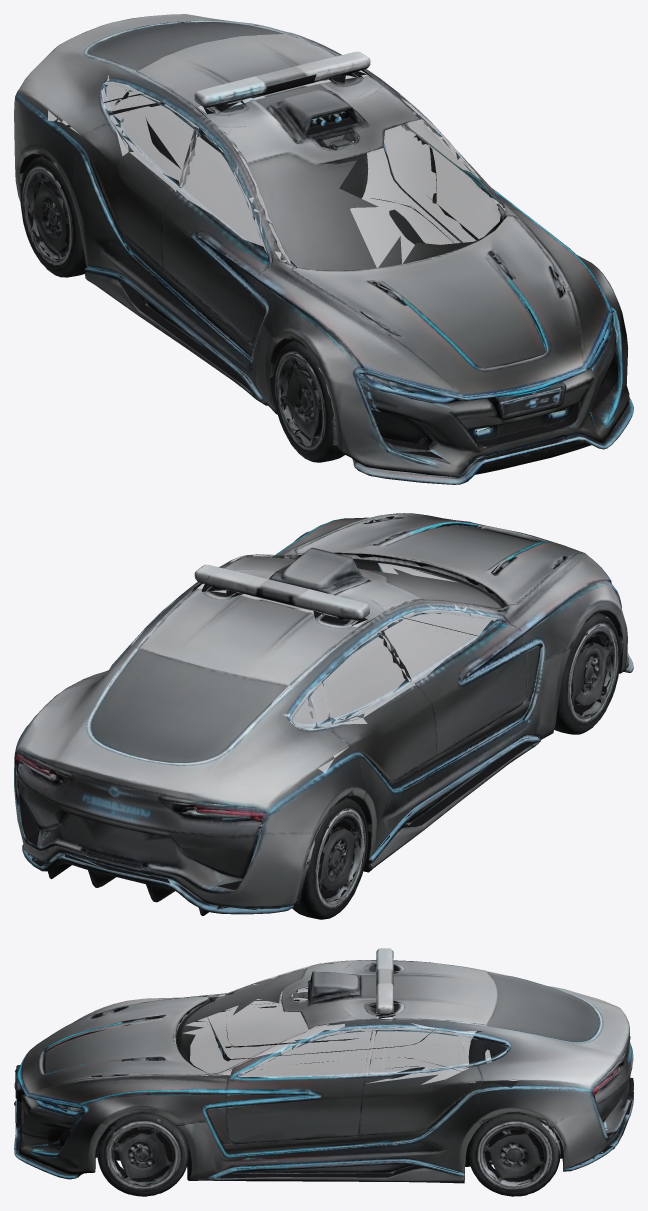
Rendered from luxury.glb.
3 renders of one model, top to bottom at view 1: azimuth 30°, elevation 25°; view 2: azimuth 150°, elevation 25°; view 3: azimuth 270°, elevation 25°, orthographic. The views are drawn at different scales.
Parts seen in each view (by area): view 1: body, glass, door_r, wheel_fr, wheel_rr, door_r_glass, door_l_glass, door_l, wheel_rl; view 2: body, door_r, glass, wheel_rr, wheel_fr, door_r_glass; view 3: body, door_l, glass, wheel_rl, wheel_fl, door_l_glass, wheel_rr, door_r.
Boxes of the visible parts, <box> form: body: <box>14,14,633,484</box>; glass: <box>48,65,505,267</box>; door_r: <box>153,136,313,368</box>; wheel_fr: <box>269,330,344,462</box>; wheel_rr: <box>15,145,86,277</box>; door_r_glass: <box>179,136,281,252</box>; door_l_glass: <box>409,109,495,198</box>; door_l: <box>405,99,519,243</box>; wheel_rl: <box>316,131,367,208</box>; body: <box>14,513,633,915</box>; door_r: <box>389,591,526,794</box>; glass: <box>131,555,505,772</box>; wheel_rr: <box>292,788,372,919</box>; wheel_fr: <box>554,601,625,734</box>; door_r_glass: <box>392,599,498,681</box>; body: <box>14,948,633,1183</box>; door_l: <box>231,1023,361,1164</box>; glass: <box>184,963,517,1087</box>; wheel_rl: <box>465,1108,568,1196</box>; wheel_fl: <box>89,1106,192,1196</box>; door_l_glass: <box>231,1024,360,1077</box>; wheel_rr: <box>468,1031,518,1087</box>; door_r: <box>231,965,360,1059</box>.
Size of the model in its own units: 2.02 by 1.51 by 5.
2 materials, 2 textured.
